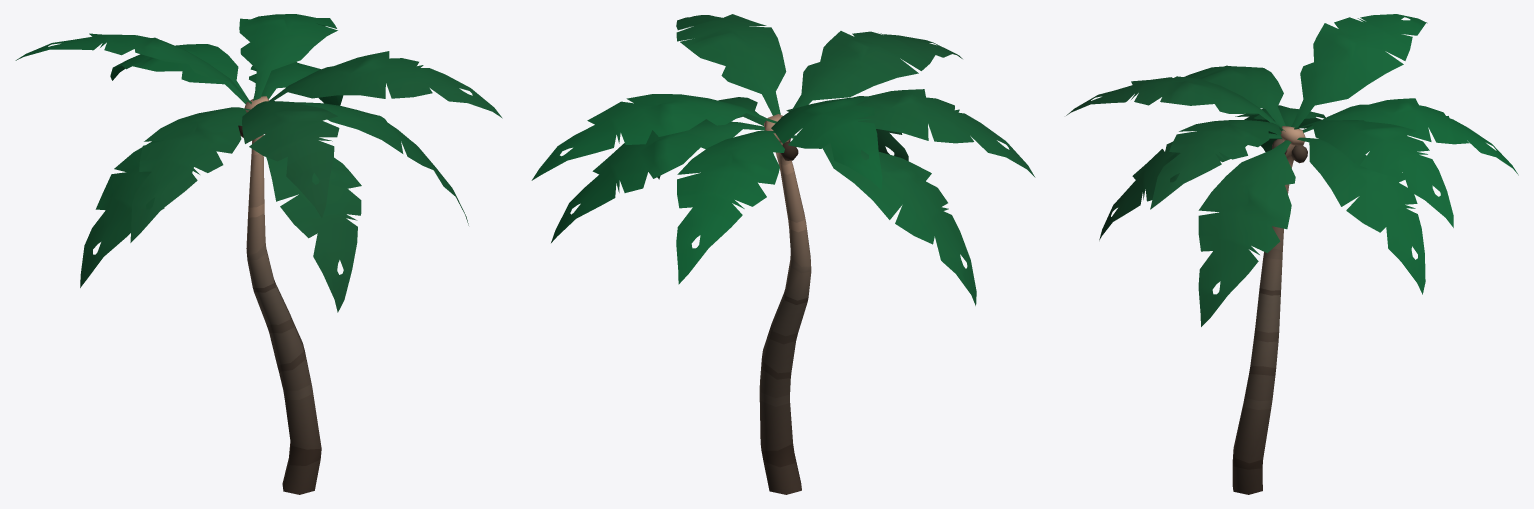
The model's file is PalmTree_01.fbx.
3 renders of one model, left to right at view 1: azimuth 30°, elevation 25°; view 2: azimuth 150°, elevation 25°; view 3: azimuth 270°, elevation 25°, orthographic. The views are drawn at different scales.
Parts seen in each view (by area): view 1: Cylinder.189; view 2: Cylinder.189; view 3: Cylinder.189.
Boxes of the visible parts, box(x1,y1,x2,y2) form: Cylinder.189: box(15, 14, 502, 494); Cylinder.189: box(531, 14, 1035, 494); Cylinder.189: box(1066, 14, 1518, 494).
Bounding box in the file's own units: 518 × 603 × 608.
